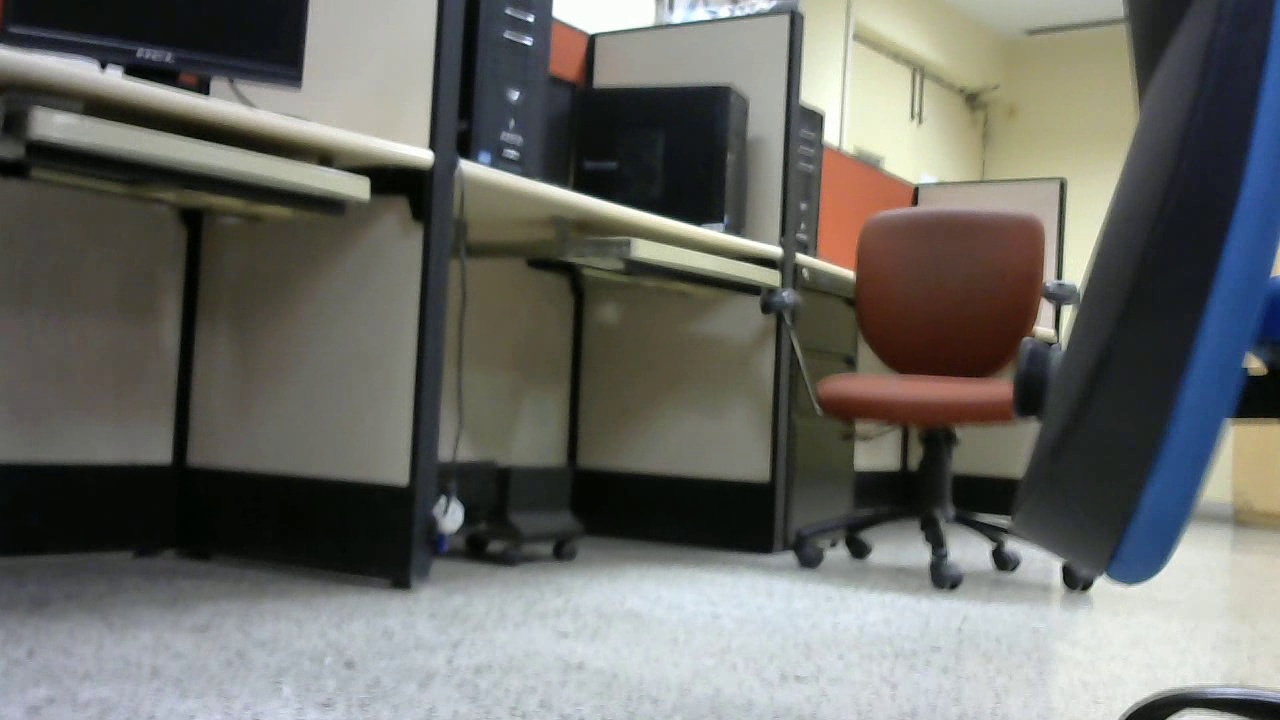chair: (217, 1, 643, 635)
